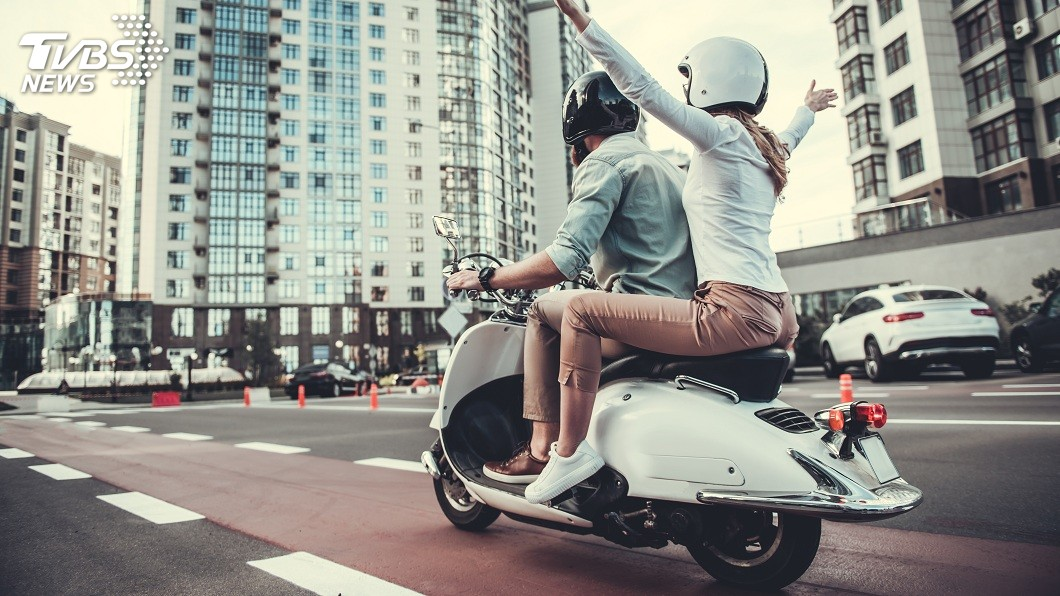helmet: (675, 43, 775, 112), (554, 62, 634, 142)
